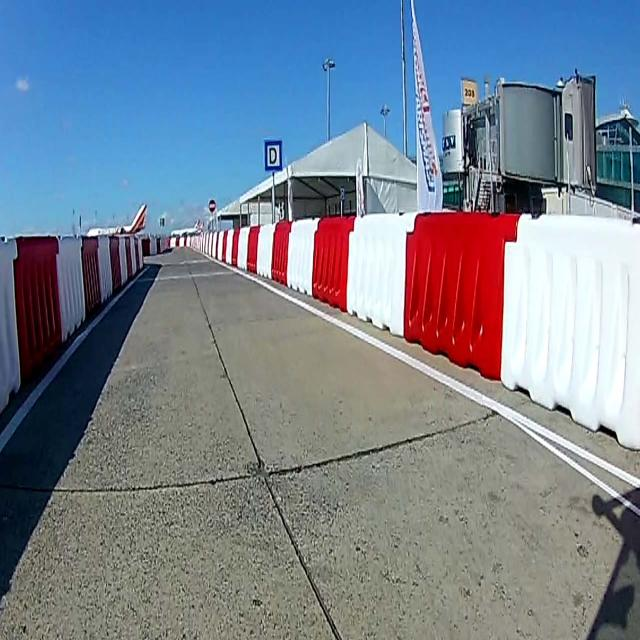durak: (264, 138, 282, 171)
girisyok: (208, 199, 216, 213)
